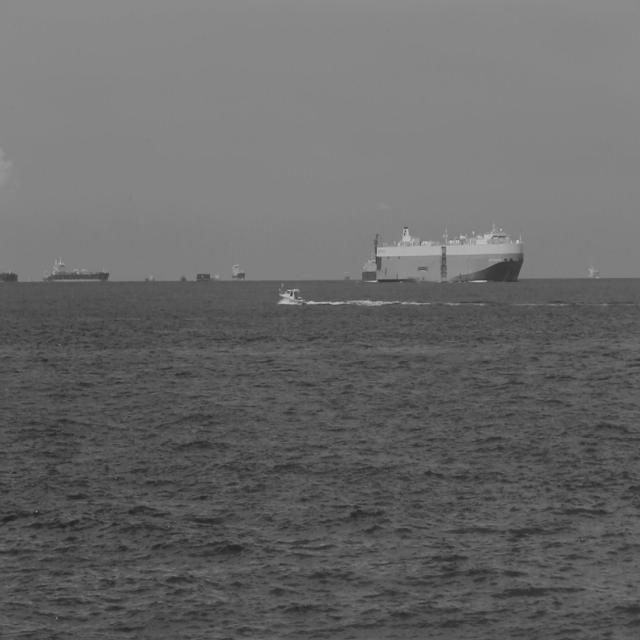ship: (373, 222, 524, 284), (40, 254, 110, 284), (278, 282, 306, 306), (359, 254, 376, 282), (229, 260, 246, 282), (0, 268, 19, 284), (196, 270, 212, 284), (144, 272, 156, 284), (212, 272, 220, 283), (178, 273, 186, 283)
